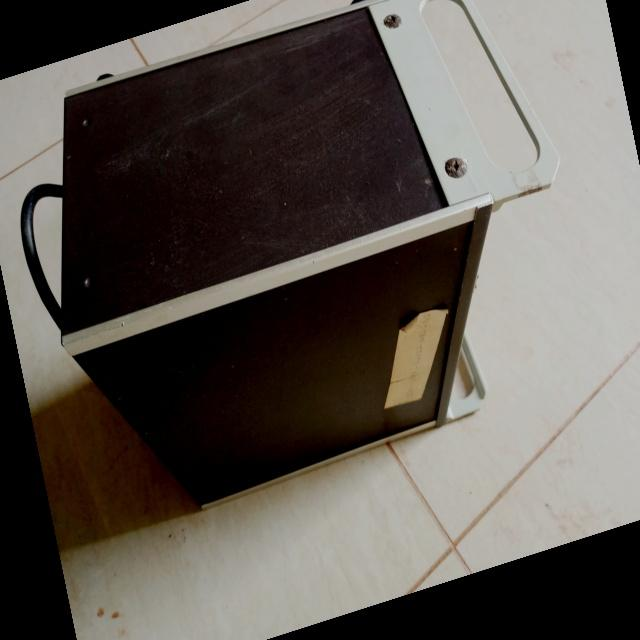Low Distortion Signal Generator: (2, 0, 547, 568)
